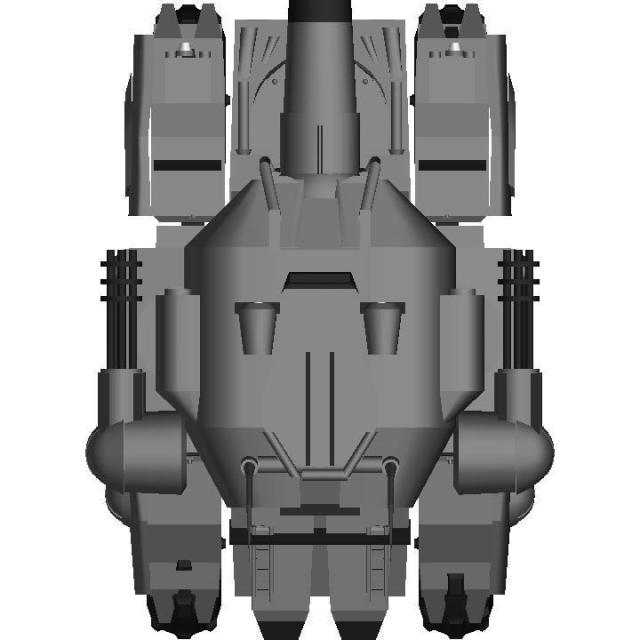Tanks: (90, 18, 558, 634)
